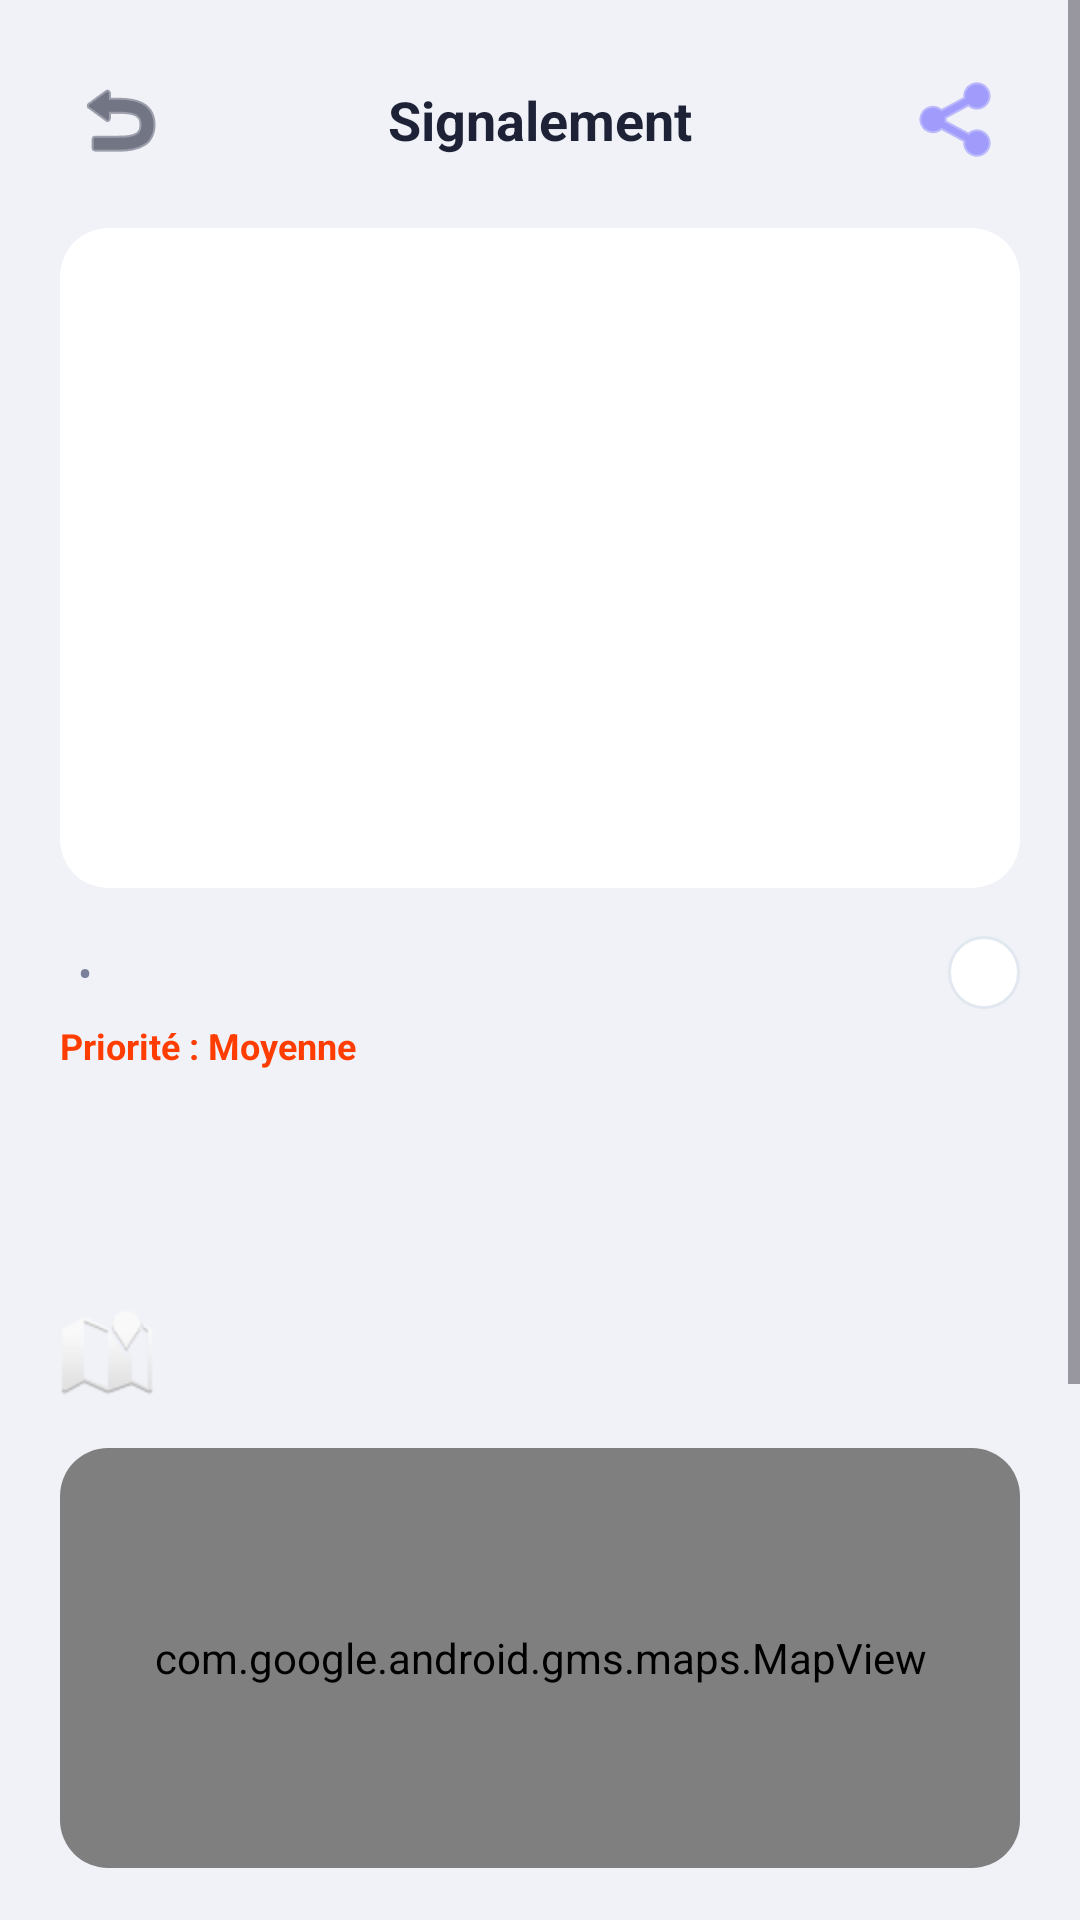

Where icons sit on this 1080px x 1920px app screen, as [x1, y1, x2, y2]:
Partager: [919, 82, 991, 157]
Retour: [87, 89, 156, 152]
